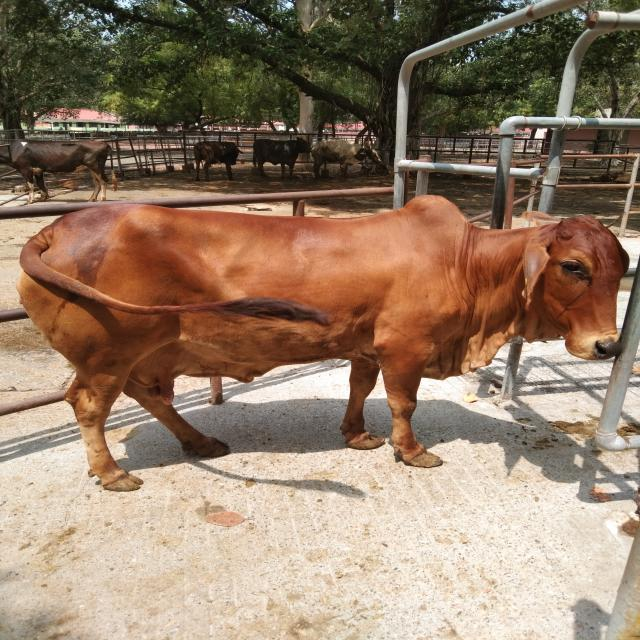1: (379, 194, 466, 216)
Hoof: (102, 473, 143, 492), (345, 431, 385, 450), (402, 450, 443, 468)
